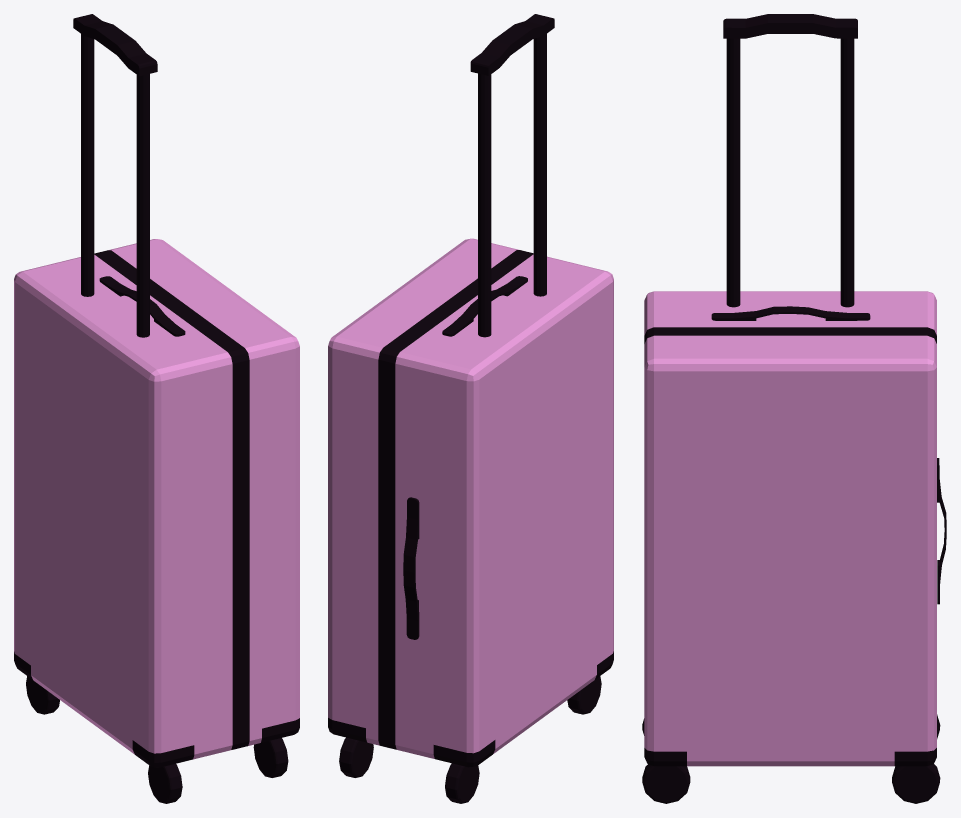
File: suitcase.fbx
The picture shows the model from 3 angles, left to right: view 1: azimuth 30°, elevation 25°; view 2: azimuth 150°, elevation 25°; view 3: azimuth 270°, elevation 25°; orthographic projection. The views are drawn at different scales.
Parts seen in each view (by area): view 1: Cube; view 2: Cube; view 3: Cube.
Part boxes in pixels (bbox=[...]): Cube: bbox=[14, 14, 299, 803]; Cube: bbox=[328, 14, 613, 803]; Cube: bbox=[642, 14, 946, 803].
Bounding box in the file's own units: 157 × 716 × 269.
